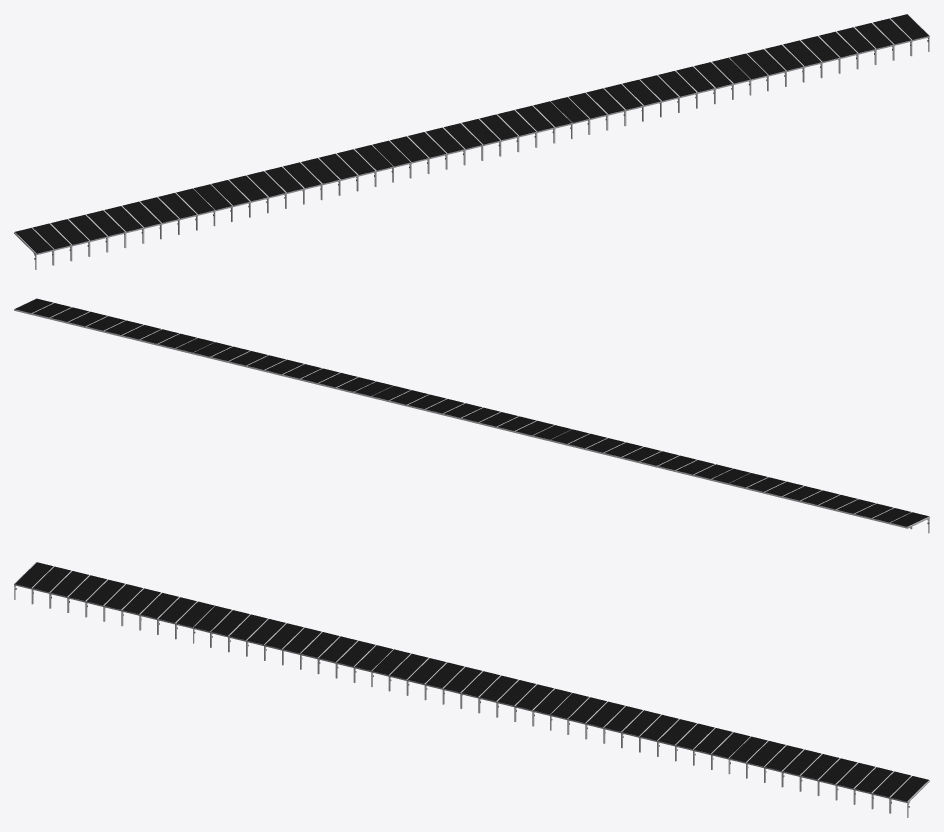
Rendered from Cap_50.glb.
3 views of the same model, one above another, from view 1: azimuth 30°, elevation 25°; view 2: azimuth 150°, elevation 25°; view 3: azimuth 330°, elevation 25° (orthographic).
Visible parts, largest first — view 1: Left.004, Middle.003, Middle.002, Middle.017, Middle.029, Middle.033, Middle.045, Middle.015, Middle.016, Middle.018, Middle.031, Middle.032 (+34 smaller); view 2: no part large enough to name; view 3: Middle.045, Middle.025, Middle.012, Middle.039, Middle.013, Middle.015, Middle.034, Middle.001, Middle.003, Middle.010, Middle.017, Middle.031 (+36 smaller).
Part boxes in pixels (<box>): Left.004: <box>14,228,53,269</box>; Middle.003: <box>603,84,643,126</box>; Middle.002: <box>585,88,625,130</box>; Middle.017: <box>514,105,554,147</box>; Middle.029: <box>49,219,89,261</box>; Middle.033: <box>121,201,161,243</box>; Middle.045: <box>889,14,929,56</box>; Middle.015: <box>478,114,518,156</box>; Middle.016: <box>496,110,536,152</box>; Middle.018: <box>532,101,572,143</box>; Middle.031: <box>85,210,125,252</box>; Middle.032: <box>103,206,143,248</box>; Middle.045: <box>889,775,928,813</box>; Middle.025: <box>317,636,357,674</box>; Middle.012: <box>424,662,464,700</box>; Middle.039: <box>781,749,821,787</box>; Middle.013: <box>442,666,481,704</box>; Middle.015: <box>478,675,517,713</box>; Middle.034: <box>139,592,178,630</box>; Middle.001: <box>567,697,606,734</box>; Middle.003: <box>603,705,642,743</box>; Middle.010: <box>388,653,428,691</box>; Middle.017: <box>514,684,553,721</box>; Middle.031: <box>85,579,124,617</box>.
Size of the model in its own units: 132 by 3.11 by 5.7.
Materials: 10 (10 with a texture image).
